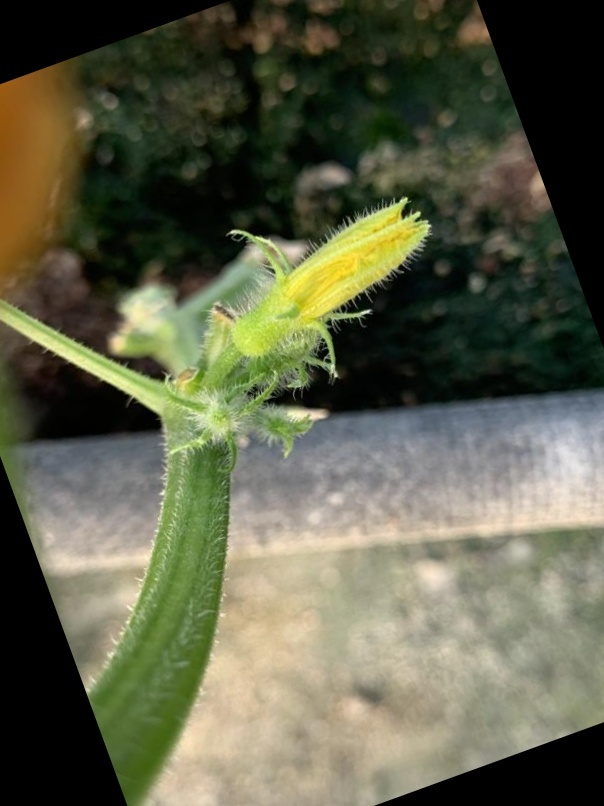bud: (192, 193, 438, 367)
